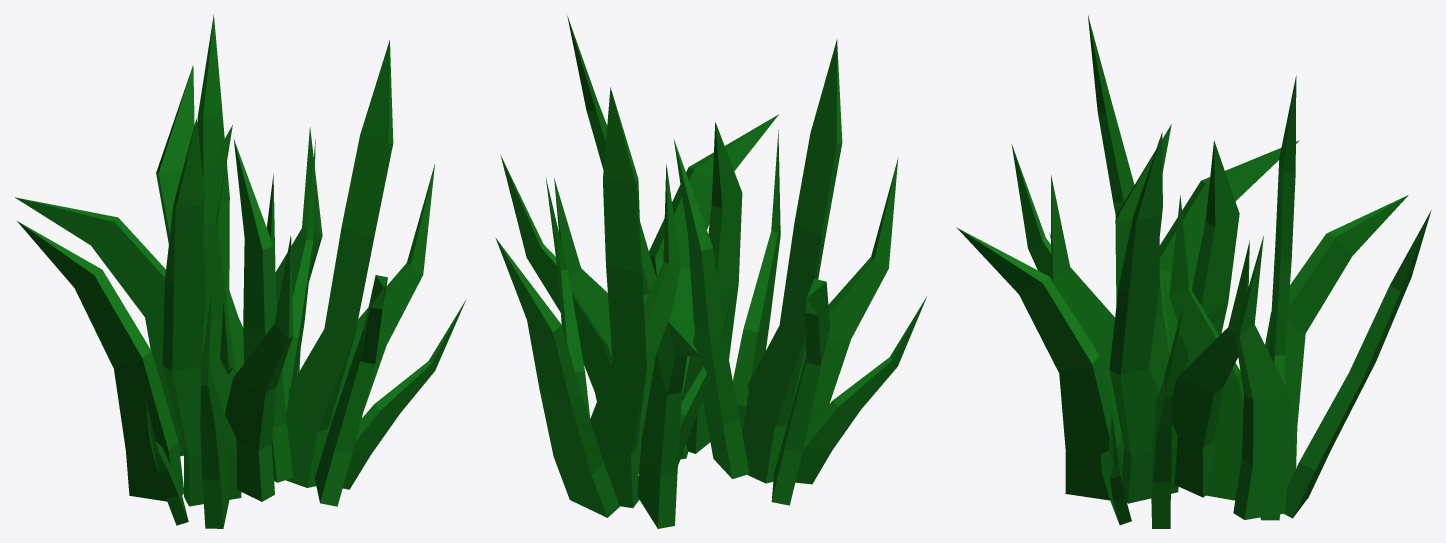
File: Hackaton_Grass.fbx
3 renders of one model, left to right at view 1: azimuth 30°, elevation 25°; view 2: azimuth 150°, elevation 25°; view 3: azimuth 270°, elevation 25°, orthographic.
Visible parts, largest first — view 1: Big_Grass; view 2: Big_Grass; view 3: Big_Grass.
Part boxes in pixels (<box>): Big_Grass: <box>15,14,466,528</box>; Big_Grass: <box>495,16,926,528</box>; Big_Grass: <box>956,15,1431,528</box>.
Size of the model in its own units: 43.26 by 48.96 by 48.99.
